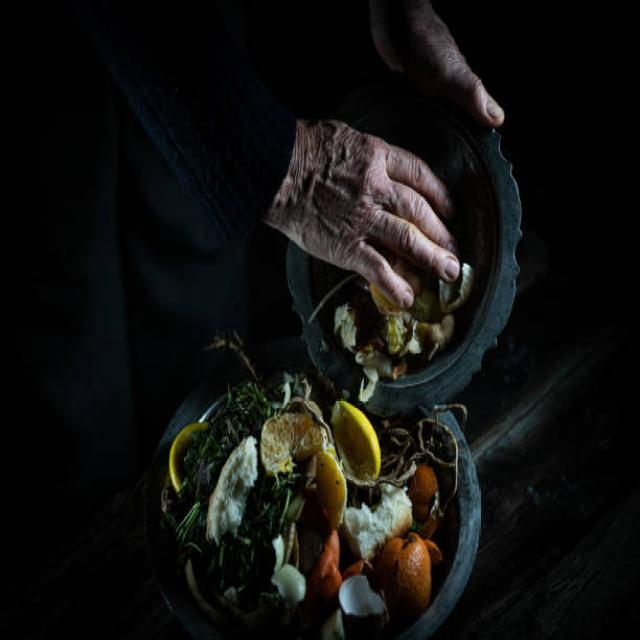trash: (184, 340, 442, 594)
